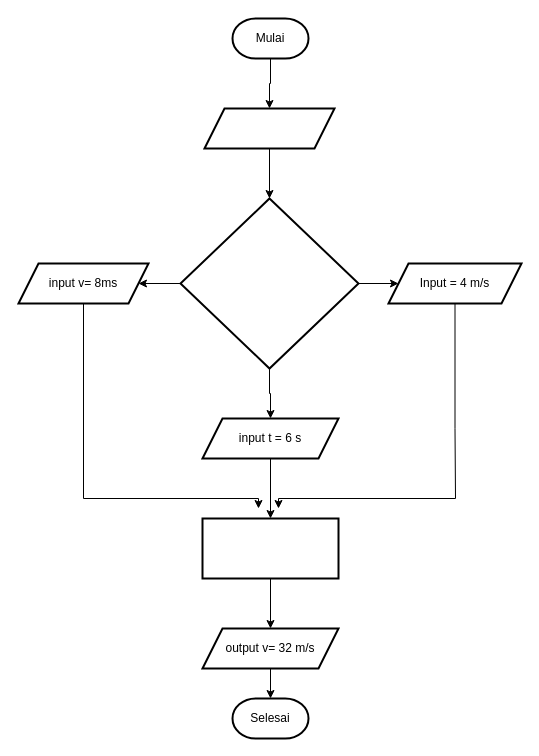
Image size: 539x756. Some labels were removed from this diagram. The centre of each missing label's shape, as x and y in pixels:
"v= 8 m/s + (4 m/s^2*6s)" goes at pixel 270 548.
"v= kecepatan a= percepatan t= waktu" goes at pixel 269 283.
"v= u+at" goes at pixel 269 128.
